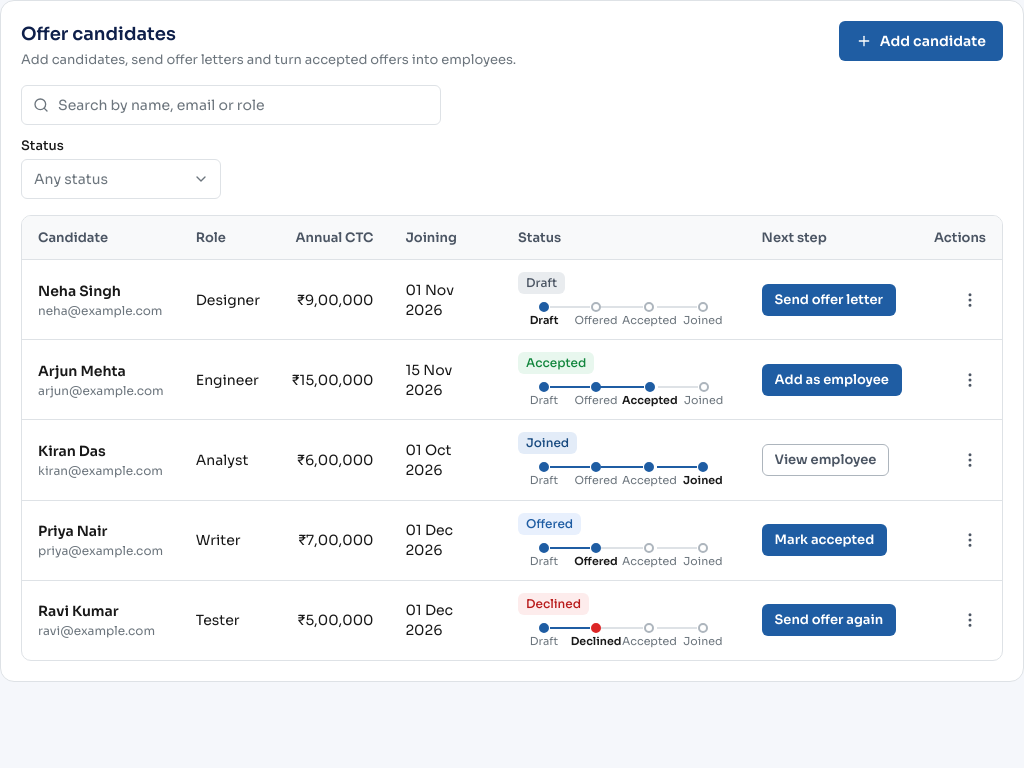
Test: status changes › closes and refreshes when the candidate was removed elsewhere
expect the text "Priya Nair" is shown: met, box [38, 522, 108, 540]
Step 1. Click the button with aria-label "Mark accepted for Priya Nair" → (824, 540), box [762, 524, 887, 556]
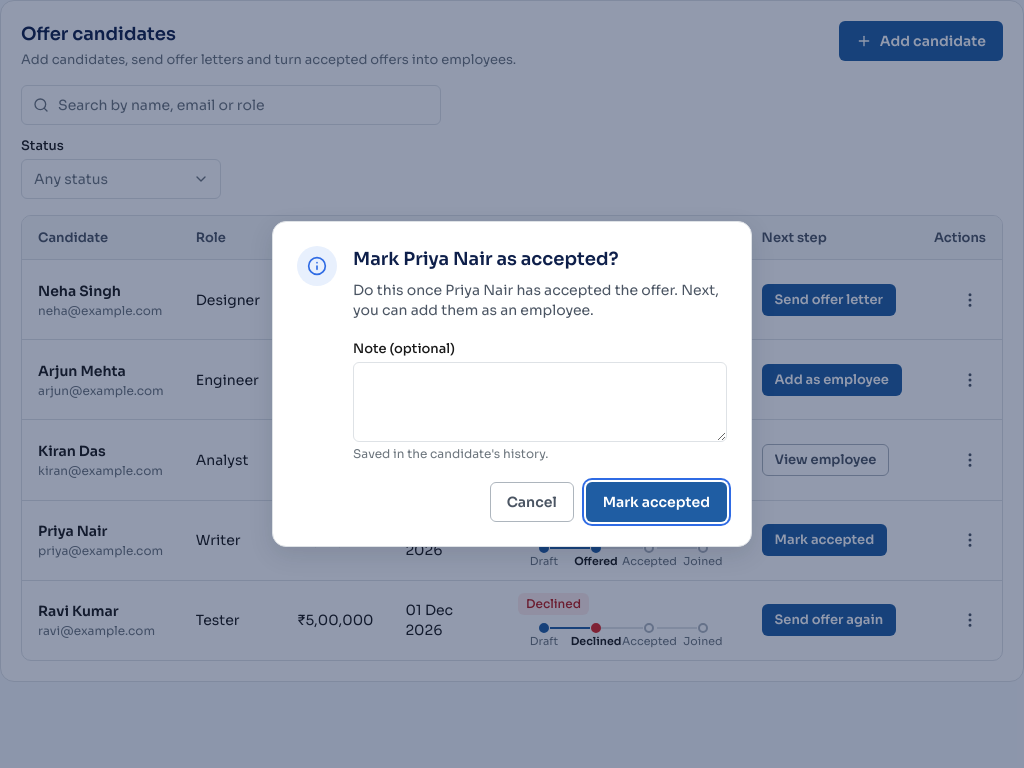
Step 2. Click the button "Mark accepted" → (656, 502), box [586, 482, 727, 522]
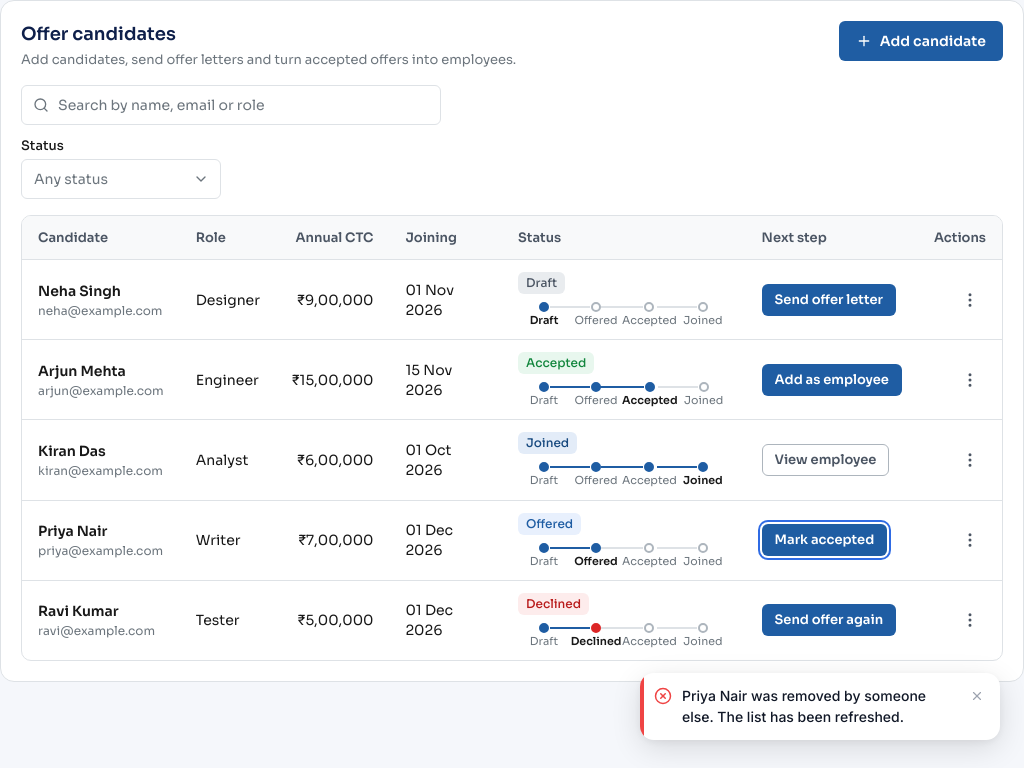
expect the text "Priya Nair was removed by someone else. The list has been refreshed." is shown: met, box [682, 686, 958, 727]
expect the dialog is gone: met
